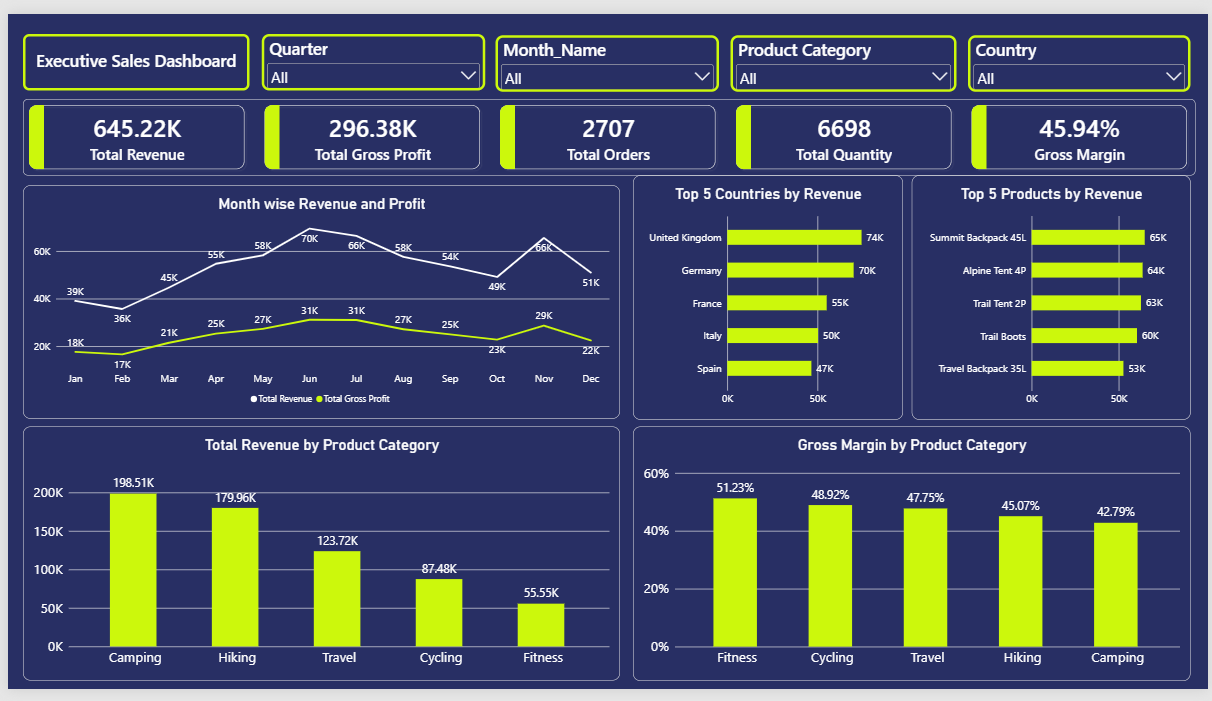

This screenshot's page, from the dashboard's own definition file:
{"tool":"powerbi","page":{"name":"Page 1","canvas":[1920,1080],"ordinal":0},"visuals":[{"type":"cardVisual","fields":{"Data":["All_Measures.Total Revenue","All_Measures.Total Gross Profit","All_Measures.Total Orders","All_Measures.Total Quantity","All_Measures.Gross Margin"]},"box":[24,136,1876,122],"z":0},{"type":"textbox","box":[23.3,32.2,362.2,90.6],"z":1000},{"type":"slicer","fields":{"Values":["Date_Table.Month_Name"]},"box":[780.6,34.2,357.5,90],"z":2000},{"type":"slicer","fields":{"Values":["Date_Table.Quarter"]},"box":[405,32.5,357.5,90],"z":3000},{"type":"slicer","fields":{"Values":["Sales_Data.Product Category"]},"box":[1156.1,34.2,361.7,90],"z":4000},{"type":"slicer","fields":{"Values":["Sales_Data.Country"]},"box":[1535.8,34.2,355.8,90],"z":5000},{"type":"lineChart","title":"Month wise Revenue and Profit","fields":{"Category":["Date_Table.Month_Name"],"Y":["All_Measures.Total Revenue","All_Measures.Total Gross Profit"]},"box":[24.4,274.4,955.6,373.3],"z":6000},{"type":"clusteredBarChart","title":"Top 5 Countries by Revenue","fields":{"Category":["Sales_Data.Country"],"Y":["All_Measures.Total Revenue"]},"box":[1000,257.3,431.8,390.9],"z":7000},{"type":"clusteredColumnChart","fields":{"Category":["Sales_Data.Product Category"],"Y":["All_Measures.Total Revenue"]},"box":[24.4,660,955.6,406.7],"z":8000},{"type":"clusteredColumnChart","fields":{"Category":["Sales_Data.Product Category"],"Y":["All_Measures.Gross Margin"]},"box":[1000,660,892,407],"z":9000},{"type":"clusteredBarChart","title":"Top 5 Products by Revenue","fields":{"Category":["Sales_Data.Product"],"Y":["All_Measures.Total Revenue"]},"box":[1446,257,446,391],"z":10000}]}

Visuals, with their boxes in screenshot pixels (x1, y1, x2, y2), scaled from the page's 1920x1080 canvas onto the 1212x701 screenshot:
cardVisual - All_Measures.Total Revenue x All_Measures.Total Gross Profit: region(15, 88, 1199, 167)
textbox: region(15, 21, 243, 80)
slicer - Date_Table.Month_Name: region(493, 22, 718, 81)
slicer - Date_Table.Quarter: region(256, 21, 481, 80)
slicer - Sales_Data.Product Category: region(730, 22, 958, 81)
slicer - Sales_Data.Country: region(969, 22, 1194, 81)
"Month wise Revenue and Profit" lineChart: region(15, 178, 619, 420)
"Top 5 Countries by Revenue" clusteredBarChart: region(631, 167, 904, 421)
clusteredColumnChart - Sales_Data.Product Category x All_Measures.Total Revenue: region(15, 428, 619, 692)
clusteredColumnChart - Sales_Data.Product Category x All_Measures.Gross Margin: region(631, 428, 1194, 693)
"Top 5 Products by Revenue" clusteredBarChart: region(913, 167, 1194, 421)
